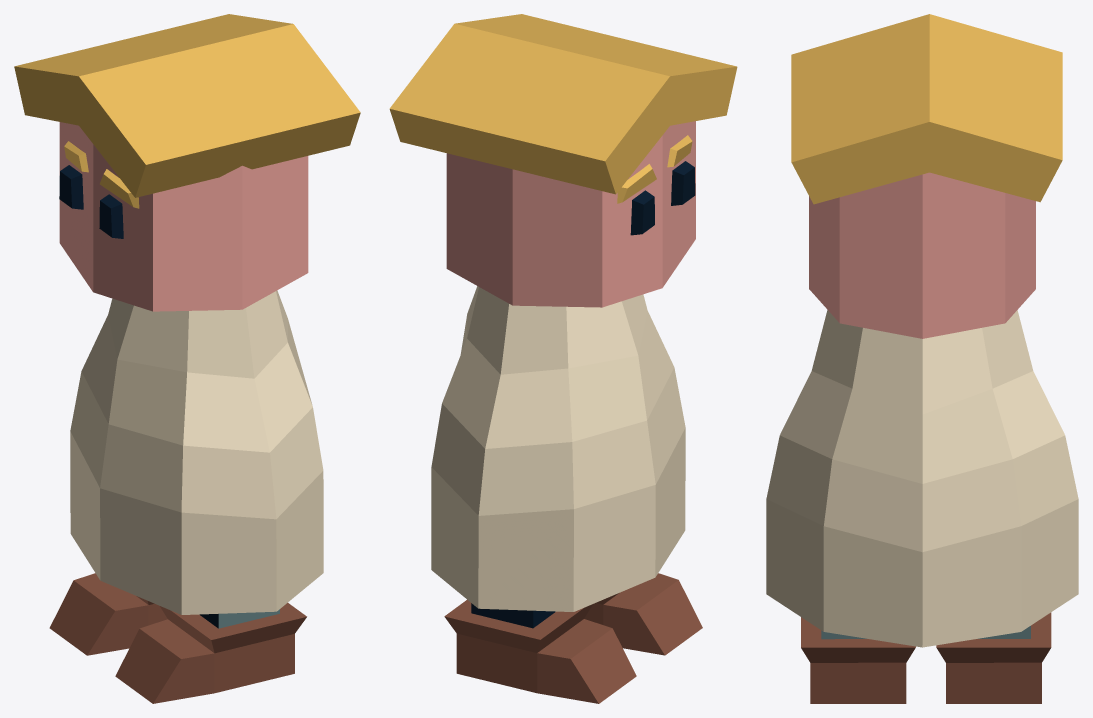
The model's file is SK_Renfri_B.fbx.
3 views of the same model, side by side, from view 1: azimuth 30°, elevation 25°; view 2: azimuth 150°, elevation 25°; view 3: azimuth 270°, elevation 25° (orthographic). The views are drawn at different scales.
Visible parts, largest first — view 1: SK_Character.002; view 2: SK_Character.002; view 3: SK_Character.002.
Boxes of the visible parts, x1,y1,x2,y2 form: SK_Character.002: (14,14,360,703); SK_Character.002: (389,14,737,703); SK_Character.002: (766,14,1078,703).
Size of the model in its own units: 43.64 by 110 by 51.08.
